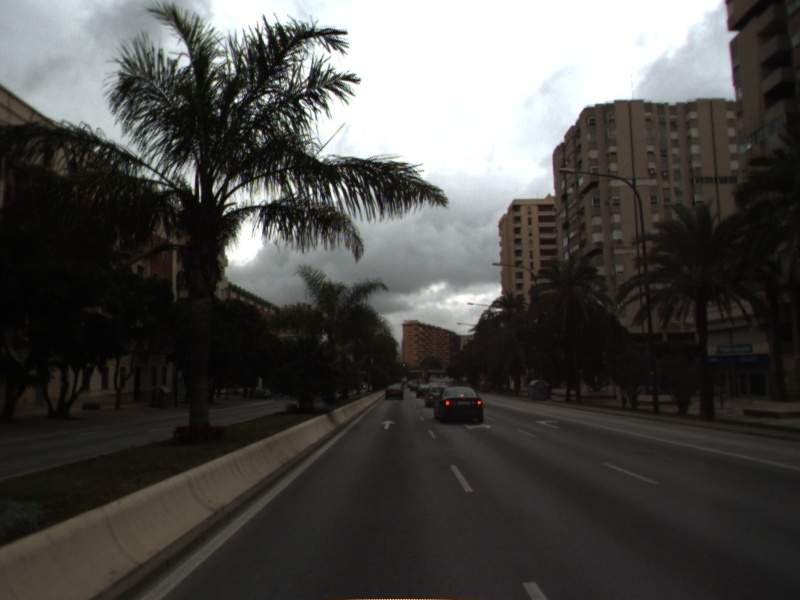RIGHT: (532, 417, 563, 431)
STRAIGHT: (377, 418, 399, 432)
